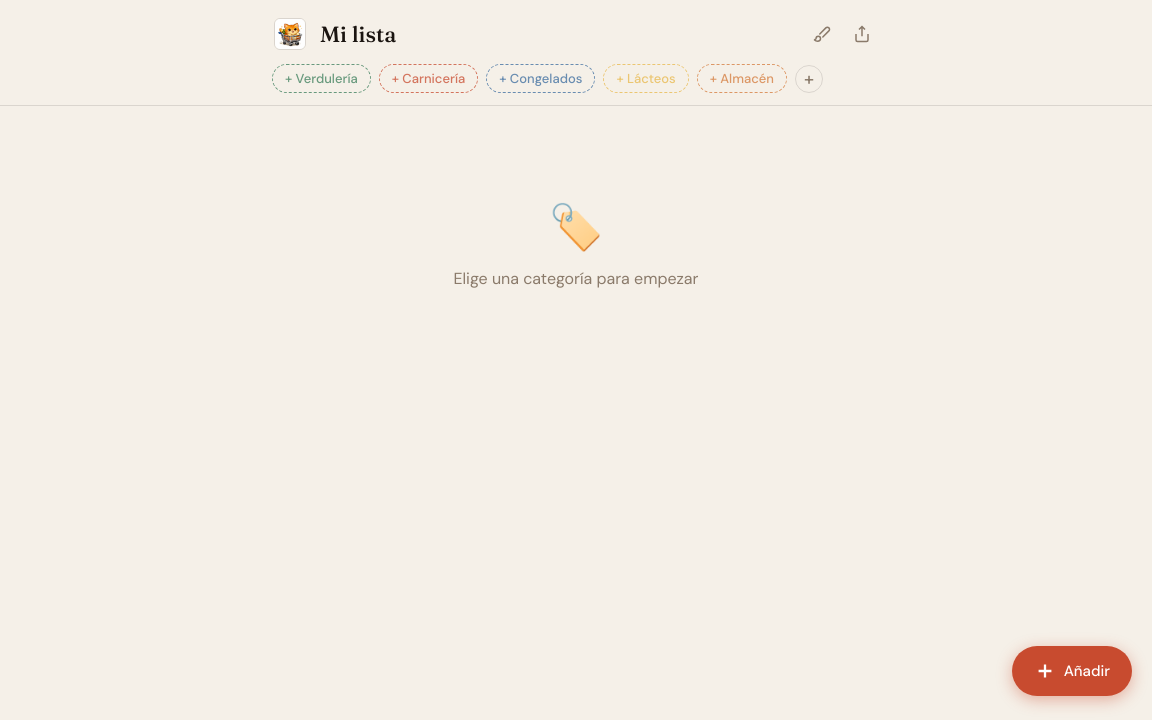
ListPage › Cancelar button closes the confirm dialog
Expected: the heading "Mi lista" is shown, x1=320 y1=20 x2=396 y2=48
Step 1. Click the button titled "Limpiar lista" → [822, 34], box x1=804 y1=16 x2=840 y2=52
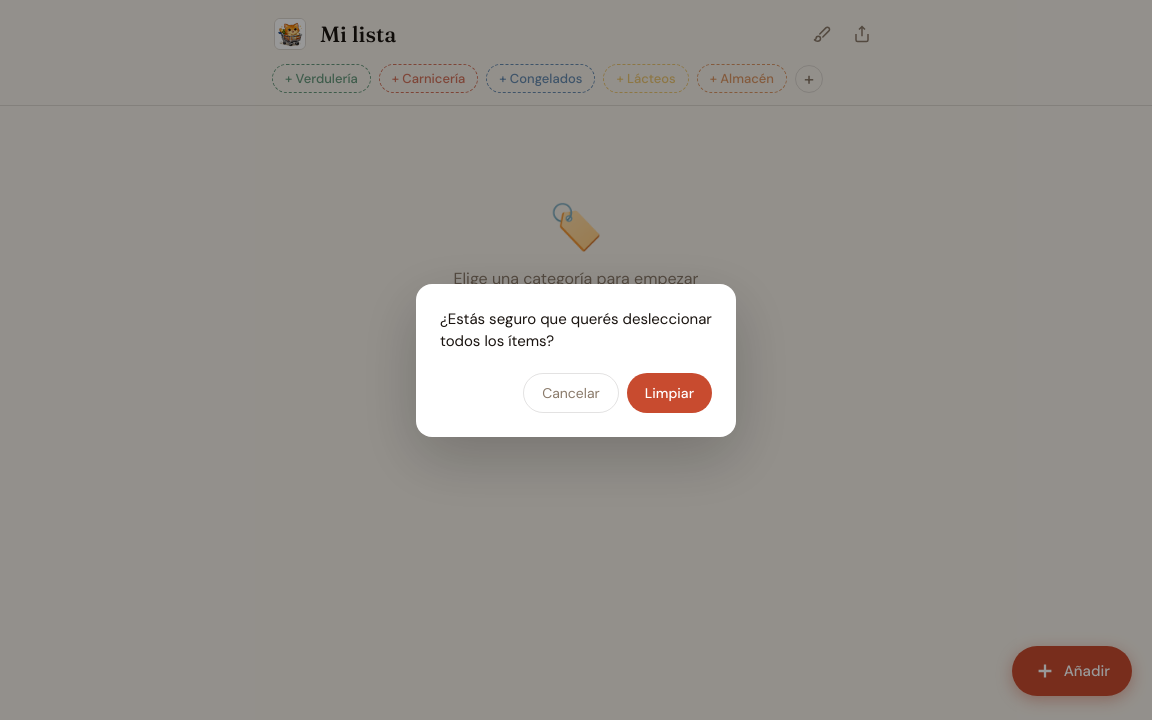
Step 2. Click the button "Cancelar" → [571, 392], box x1=523 y1=372 x2=619 y2=412
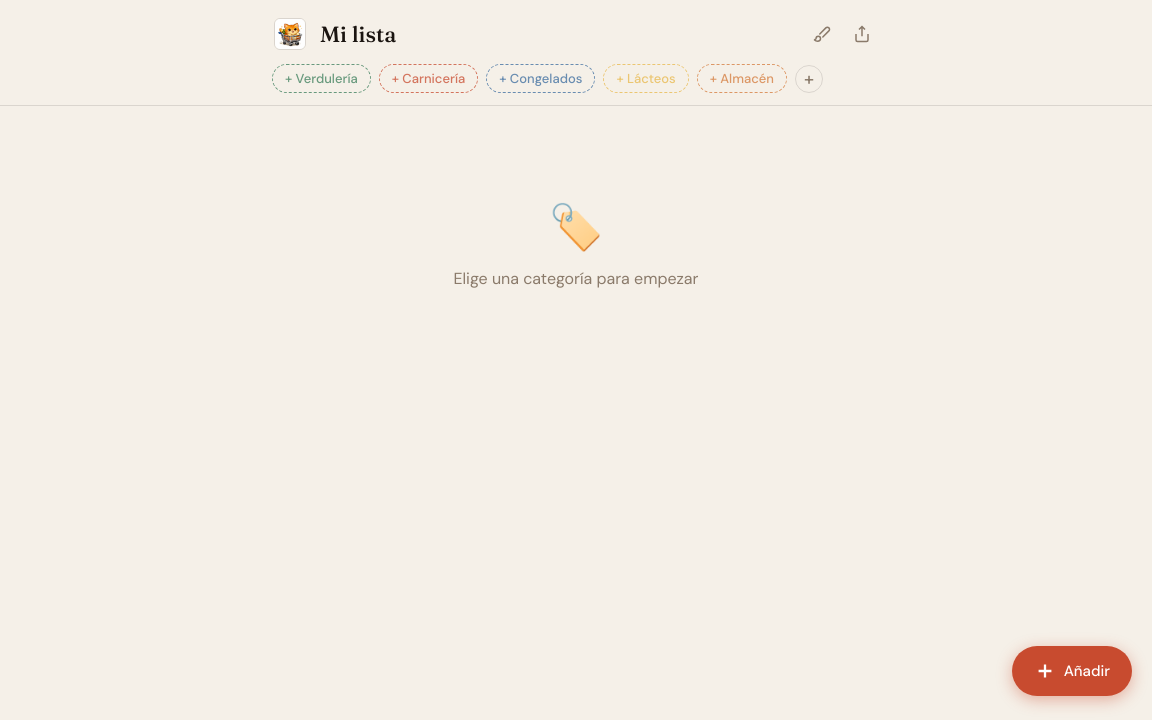
Result: the text "desleccionar todos los ítems" is gone
